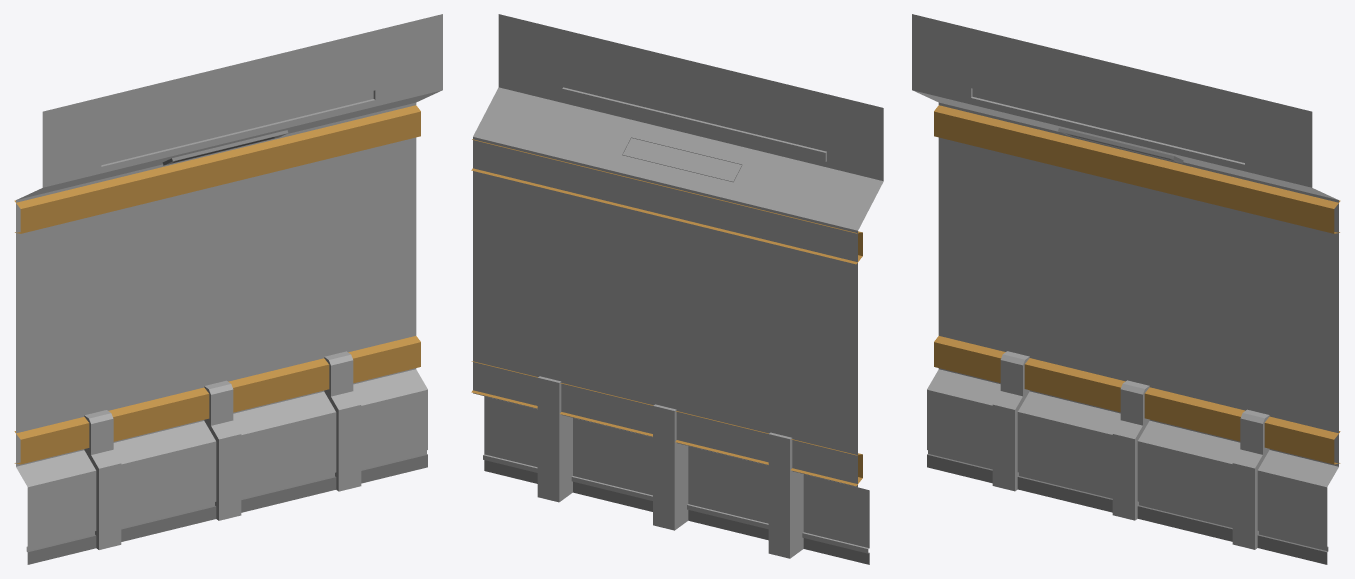
Rendered from Wall_Empty.gltf.
3 views of the same model, side by side, from view 1: azimuth 30°, elevation 25°; view 2: azimuth 150°, elevation 25°; view 3: azimuth 330°, elevation 25° (orthographic). The views are drawn at different scales.
Parts seen in each view (by area): view 1: Wall_Empty; view 2: Wall_Empty; view 3: Wall_Empty.
Boxes of the visible parts, box(x1,y1,x2,y2) form: Wall_Empty: box(14, 14, 442, 564); Wall_Empty: box(471, 14, 883, 564); Wall_Empty: box(912, 14, 1340, 564).
Size of the model in its own units: 4 by 4.43 by 0.4991.
